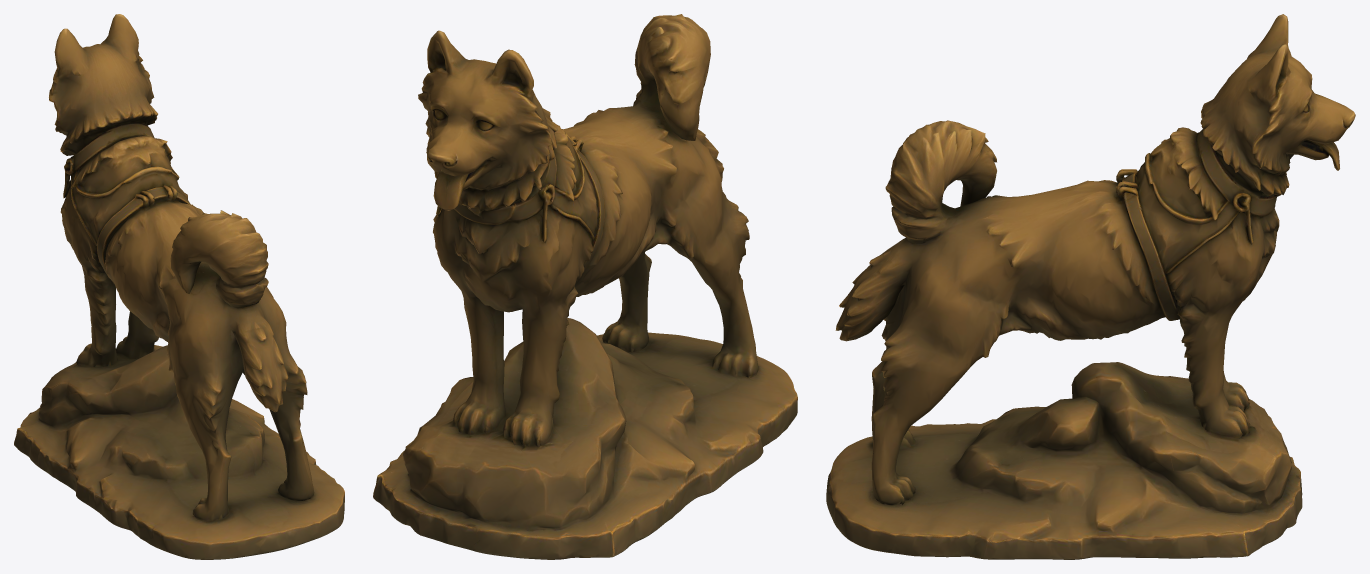
Rendered from DOM_andreyvbvbvb_7.glb.
3 renders of one model, left to right at view 1: azimuth 30°, elevation 25°; view 2: azimuth 150°, elevation 25°; view 3: azimuth 270°, elevation 25°, orthographic. The views are drawn at different scales.
Parts seen in each view (by area): view 1: tripo_node_9d4479e6-28e3-48fa-aac2-e3e1453f446f; view 2: tripo_node_9d4479e6-28e3-48fa-aac2-e3e1453f446f; view 3: tripo_node_9d4479e6-28e3-48fa-aac2-e3e1453f446f.
Part boxes in pixels (x1=…): tripo_node_9d4479e6-28e3-48fa-aac2-e3e1453f446f: x1=14, y1=14, x2=344, y2=559; tripo_node_9d4479e6-28e3-48fa-aac2-e3e1453f446f: x1=373, y1=14, x2=797, y2=559; tripo_node_9d4479e6-28e3-48fa-aac2-e3e1453f446f: x1=826, y1=14, x2=1355, y2=559.
Bounding box in the file's own units: 0.5259 × 0.9731 × 0.9816.
Materials: 1 (1 with a texture image).
